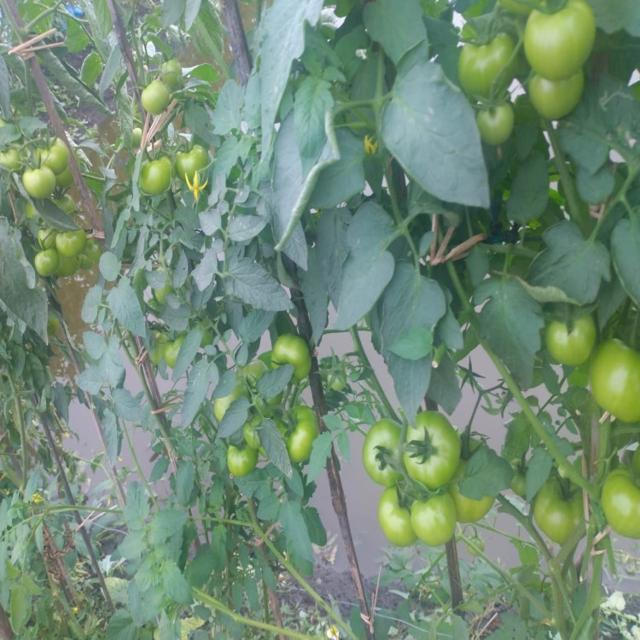tomato: (523, 1, 594, 77), (445, 31, 519, 97), (594, 337, 640, 420), (409, 418, 465, 484), (371, 418, 412, 496), (537, 482, 587, 543), (605, 457, 640, 538), (530, 67, 581, 120), (546, 309, 595, 364), (417, 486, 454, 553), (479, 96, 513, 151), (387, 489, 419, 547), (292, 400, 319, 461), (36, 137, 72, 182), (274, 334, 308, 376), (28, 164, 58, 202), (137, 83, 167, 117), (173, 141, 204, 171), (146, 158, 172, 193), (229, 443, 254, 478), (35, 250, 63, 281), (64, 228, 91, 256), (161, 334, 183, 367), (6, 145, 29, 168), (214, 396, 233, 420), (65, 193, 82, 217), (37, 230, 54, 250)
